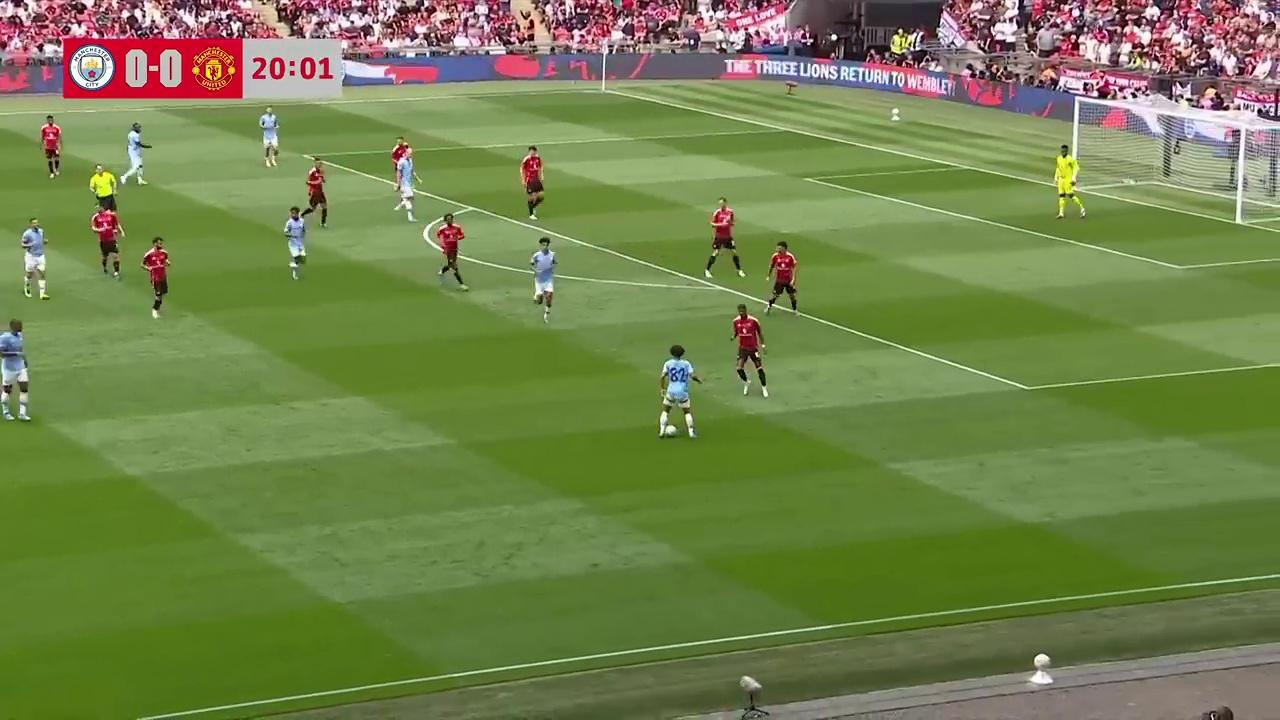ball: (663, 421, 680, 442)
player: (658, 344, 701, 441), (729, 303, 770, 397), (425, 212, 467, 288), (705, 197, 745, 276), (0, 319, 30, 422), (90, 202, 124, 278), (140, 236, 171, 319), (764, 241, 798, 315), (1053, 144, 1086, 219), (20, 217, 49, 299), (530, 235, 557, 322), (283, 205, 308, 281), (519, 145, 544, 220), (304, 157, 329, 228), (121, 122, 149, 185), (393, 154, 418, 222), (38, 115, 62, 178), (257, 106, 280, 168), (390, 135, 411, 187)
referee: (38, 115, 62, 178), (89, 161, 119, 209)
